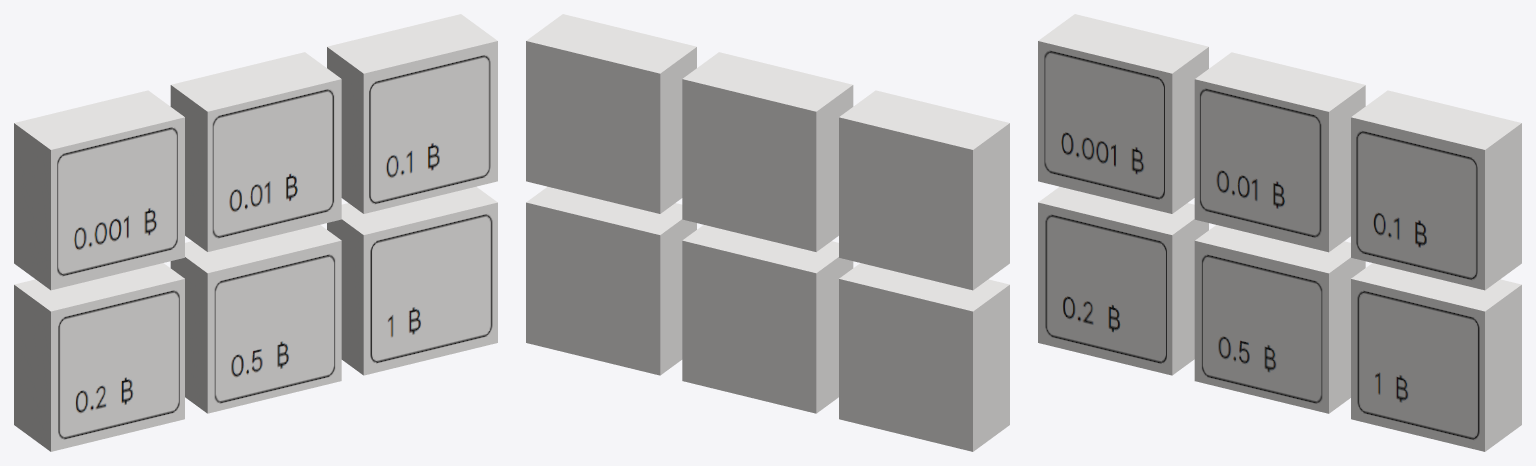
File: buttons2.glb
3 renders of one model, left to right at view 1: azimuth 30°, elevation 25°; view 2: azimuth 150°, elevation 25°; view 3: azimuth 330°, elevation 25°, orthographic.
Parts seen in each view (by area): view 1: Cube.011, Cube.012, Cube.013, Cube.009, Cube.008, Cube.007; view 2: Cube.011, Cube.012, Cube.013, Cube.009, Cube.008, Cube.007; view 3: Cube.013, Cube.012, Cube.011, Cube.007, Cube.009, Cube.008.
Part boxes in pixels (x1,y1,x2,y2): Cube.011: (14, 90, 184, 290); Cube.012: (170, 52, 341, 251); Cube.013: (327, 14, 497, 213); Cube.009: (14, 263, 184, 451); Cube.008: (170, 225, 341, 413); Cube.007: (327, 186, 497, 375); Cube.011: (839, 90, 1009, 290); Cube.012: (682, 52, 853, 251); Cube.013: (526, 14, 696, 213); Cube.009: (839, 263, 1009, 451); Cube.008: (682, 225, 853, 413); Cube.007: (526, 186, 696, 375); Cube.013: (1351, 90, 1521, 290); Cube.012: (1194, 52, 1365, 252); Cube.011: (1038, 14, 1208, 213); Cube.007: (1351, 263, 1521, 451); Cube.009: (1038, 186, 1208, 375); Cube.008: (1194, 225, 1365, 413).
Size of the model in its own units: 1.4 by 0.9046 by 0.2.
6 materials, 6 textured.
